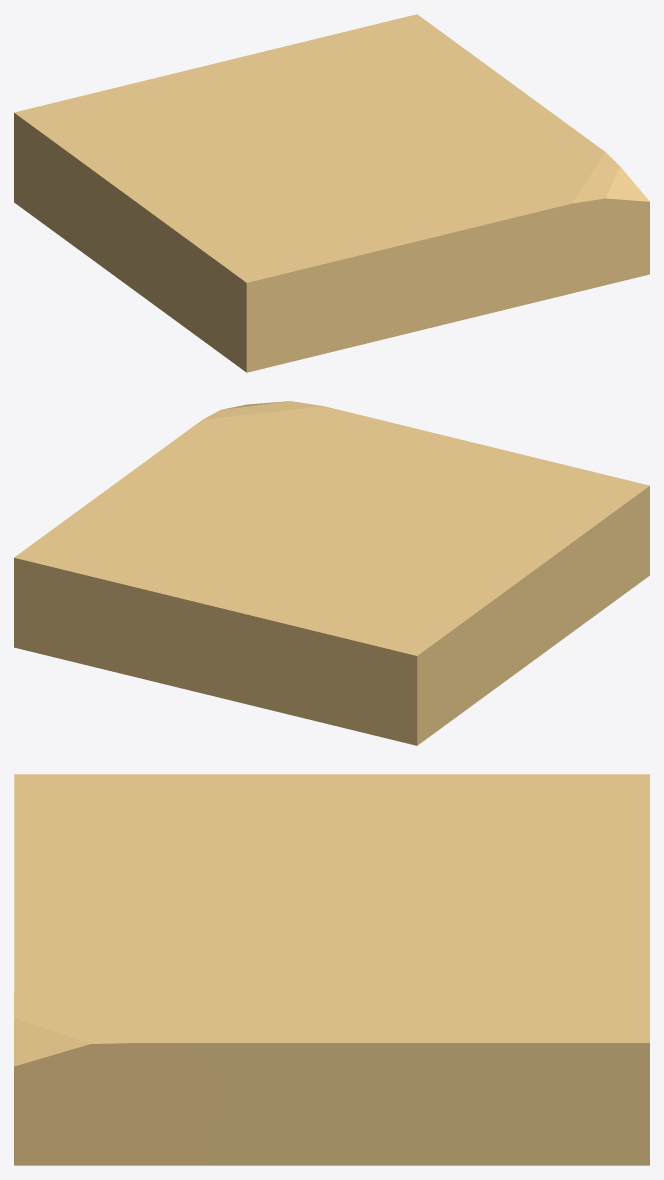
File: temple base.fbx
The picture shows the model from 3 angles, top to bottom: view 1: azimuth 30°, elevation 25°; view 2: azimuth 150°, elevation 25°; view 3: azimuth 270°, elevation 25°; orthographic projection. The views are drawn at different scales.
Parts seen in each view (by area): view 1: Cube.058; view 2: Cube.058; view 3: Cube.058.
Boxes of the visible parts, bbox=[...] form: Cube.058: bbox=[14, 14, 649, 372]; Cube.058: bbox=[14, 401, 649, 745]; Cube.058: bbox=[14, 774, 649, 1165].
Bounding box in the file's own units: 525 × 112 × 525.
